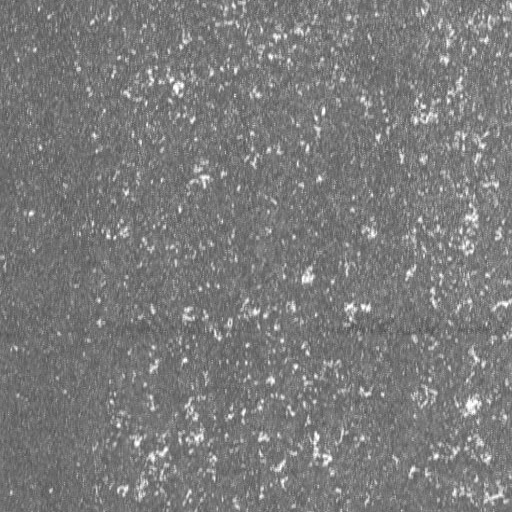hengxianghuashang: (112, 320, 507, 339)
